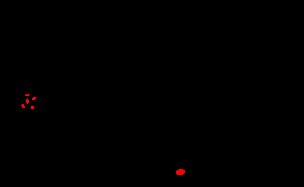Target: (176, 169, 185, 175), (21, 104, 25, 108), (26, 99, 29, 104), (32, 97, 36, 100), (31, 106, 34, 109), (25, 94, 29, 96)
